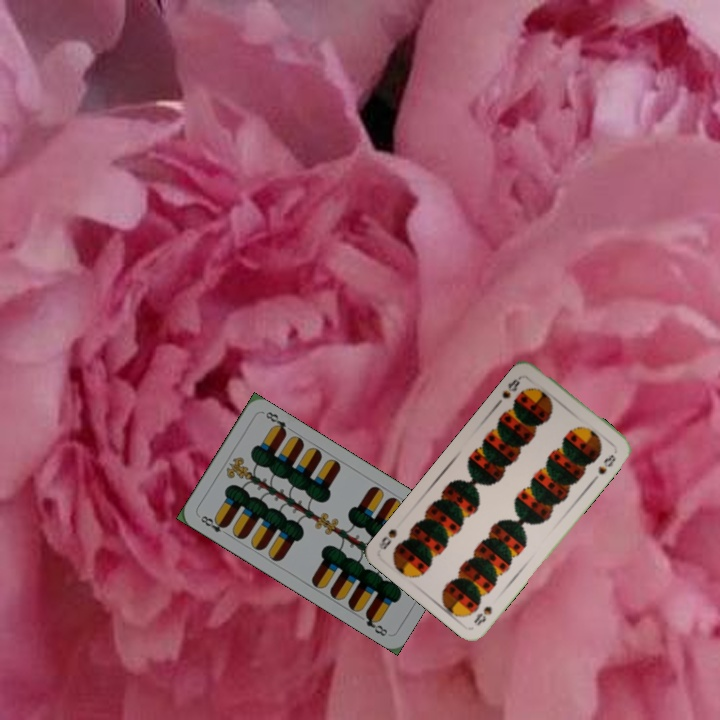E8: (196, 511, 231, 538)
S8: (498, 371, 526, 401), (469, 602, 494, 628)
